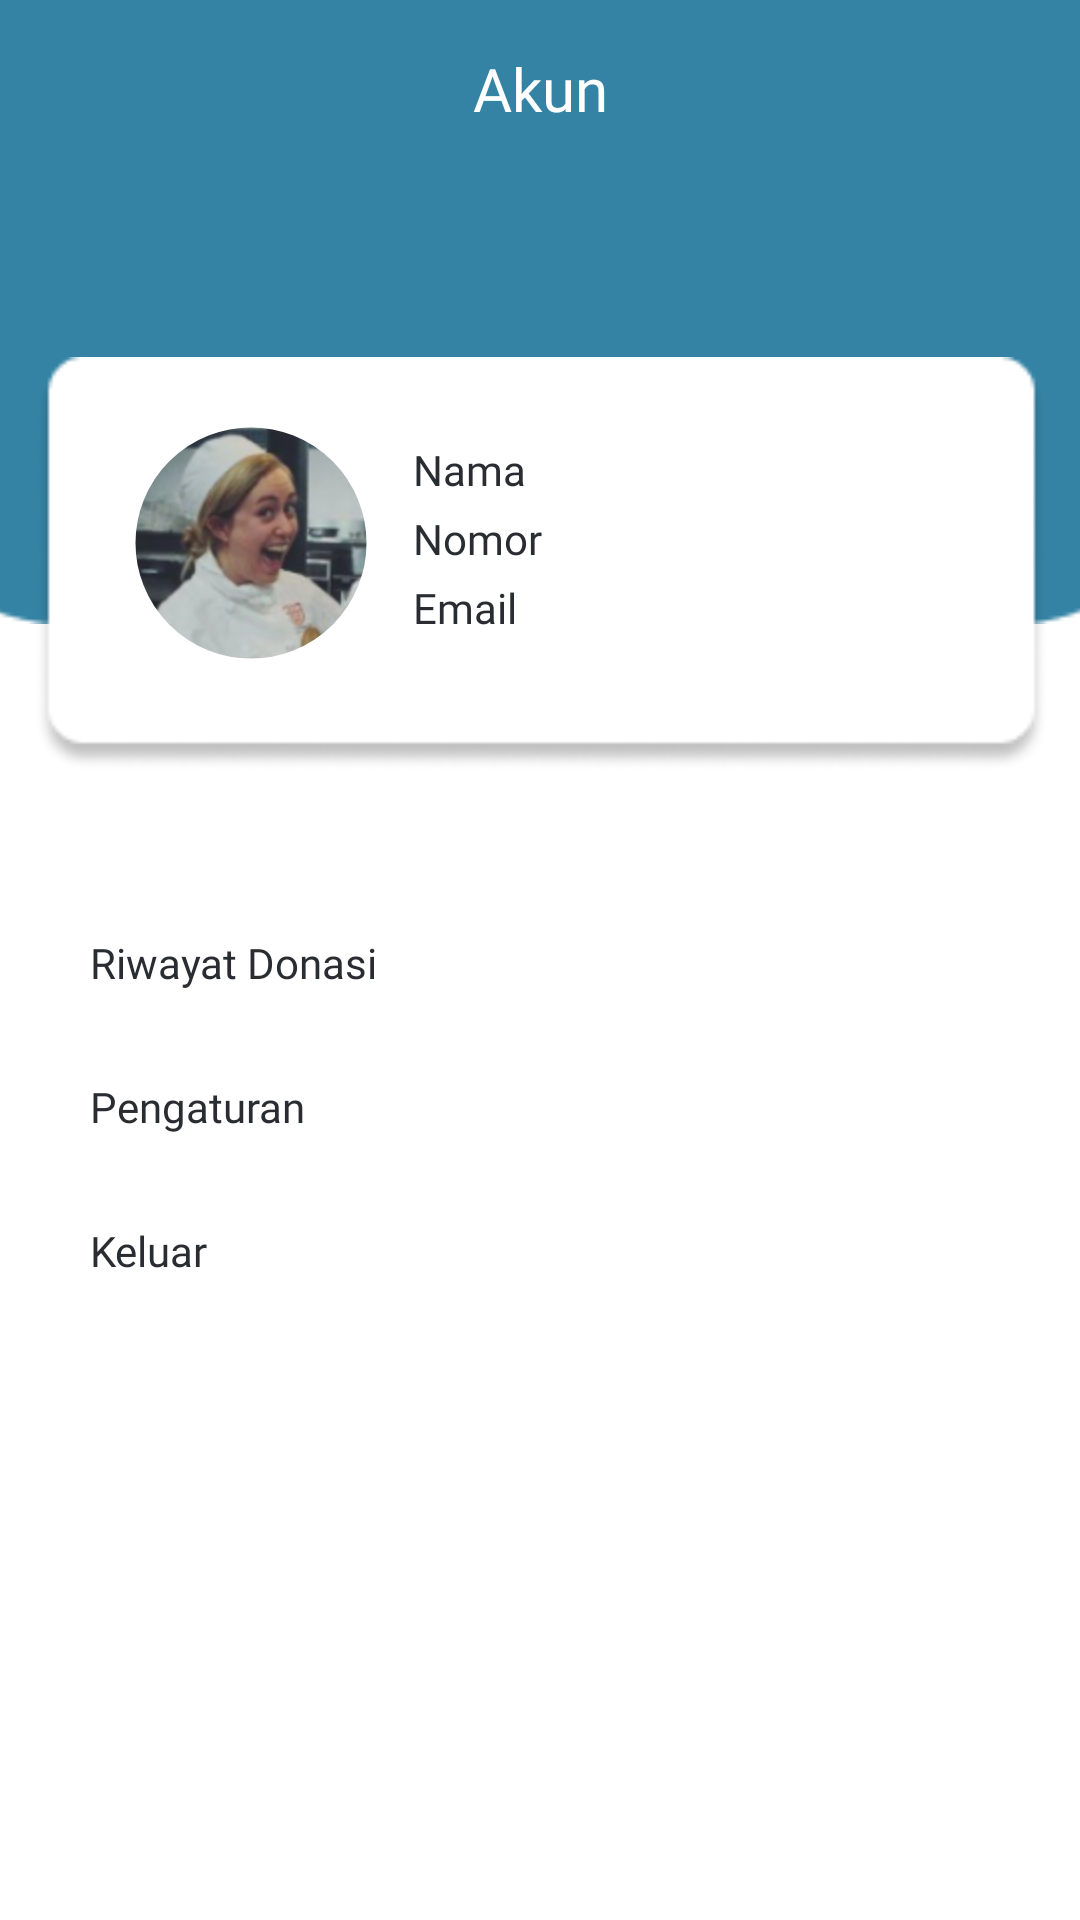

Named icons in this screenshot (1080px x 1920px) and their bounding boxes, bbox(x1, y1, x2, y2):
photo profil: bbox(135, 427, 367, 659)
